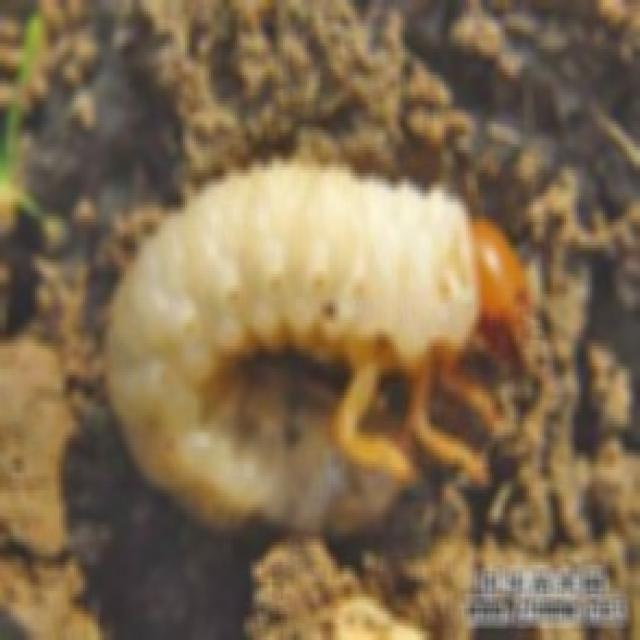grub: (106, 168, 532, 549)
